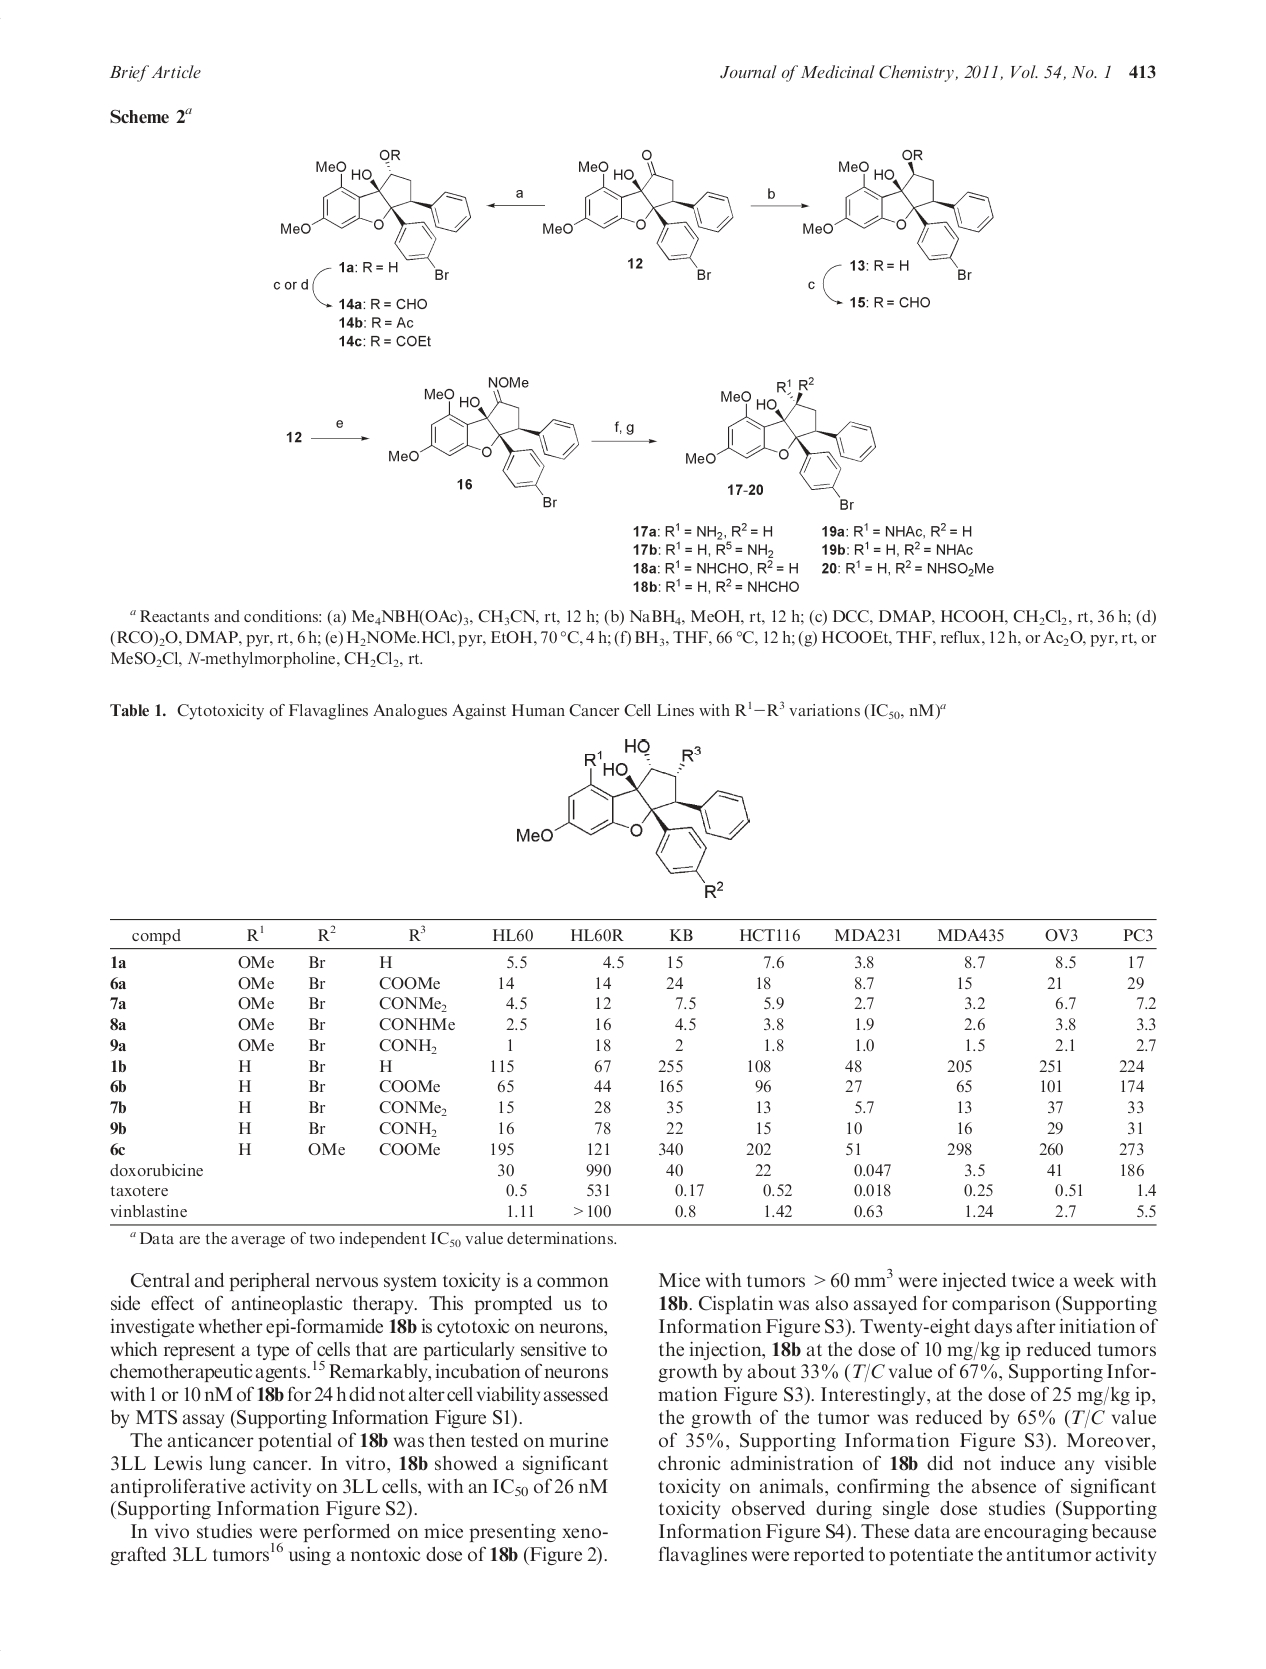exist_molecular: (513, 737, 753, 903), (277, 144, 475, 282), (535, 146, 734, 283), (682, 372, 878, 512), (386, 372, 582, 509), (801, 146, 996, 281)
